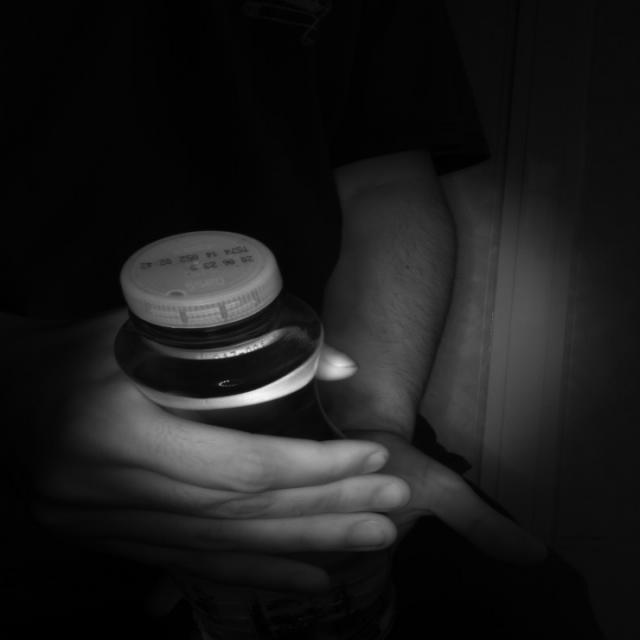Not Good: (125, 231, 282, 341)
